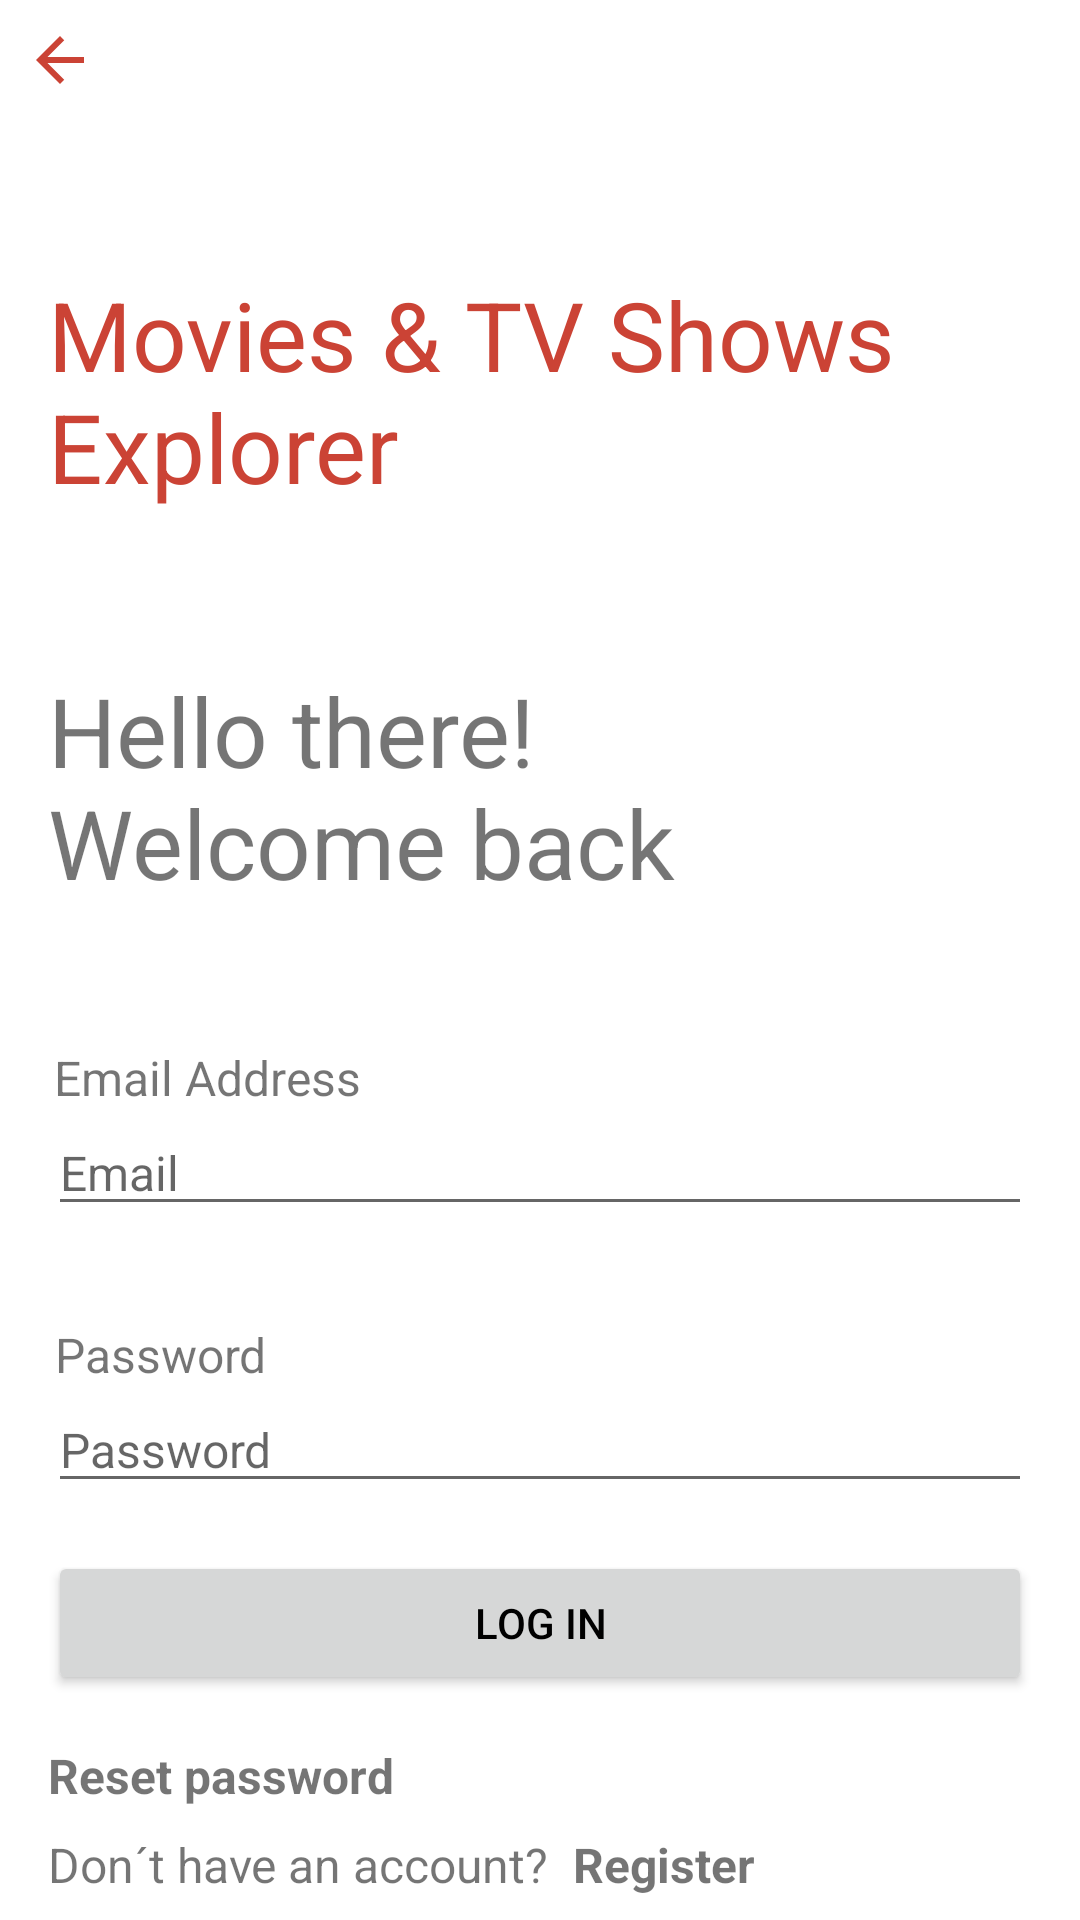

Screen size 1080x1920. Icon name, then its box in pixels as (x1, y1, x2, y2):
Go to welcome screen: (36, 36, 84, 84)
